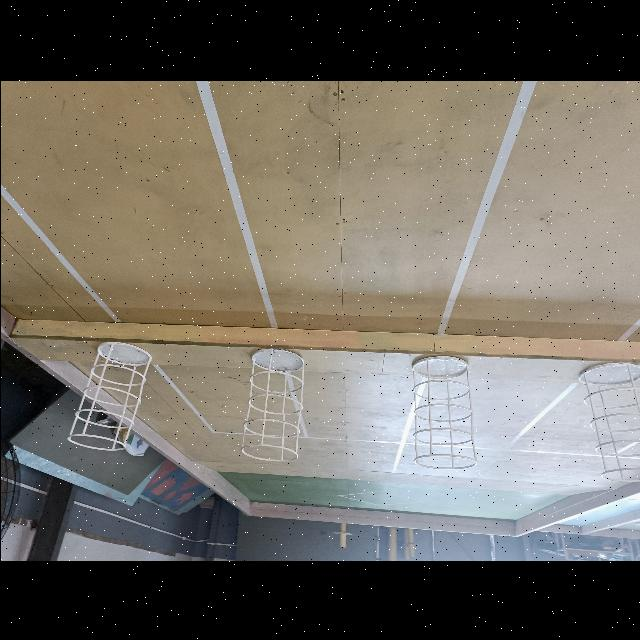S: (66, 340, 150, 452), (238, 345, 306, 467), (574, 362, 640, 482), (411, 354, 475, 472)
